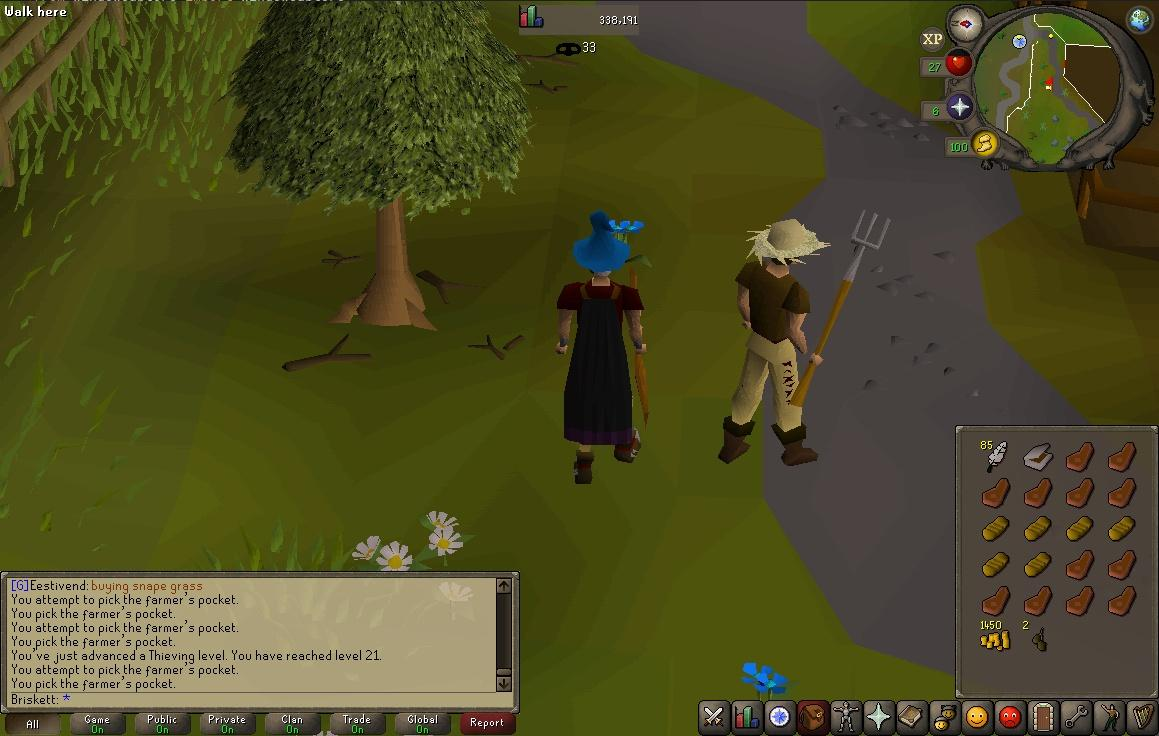Farmer: (717, 218, 831, 467)
